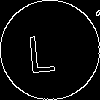L: (25, 25, 57, 73)
